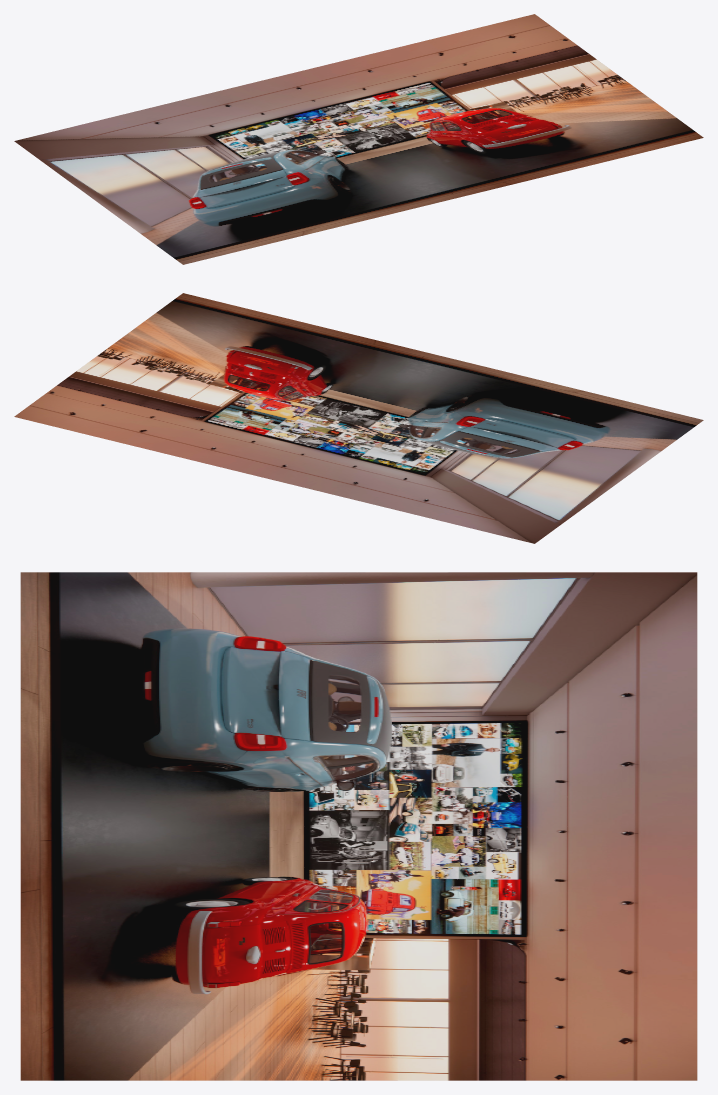
The model's file is schermoama.obj.
The picture shows the model from 3 angles, top to bottom: view 1: azimuth 30°, elevation 25°; view 2: azimuth 150°, elevation 25°; view 3: azimuth 270°, elevation 25°; orthographic projection. The views are drawn at different scales.
Parts seen in each view (by area): view 1: Plane001; view 2: Plane001; view 3: Plane001.
Part boxes in pixels (x1,y1,x2,y2): Plane001: [14, 14, 703, 264]; Plane001: [14, 293, 703, 543]; Plane001: [20, 572, 697, 1080].
Bounding box in the file's own units: 26.67 × 0 × 15.
